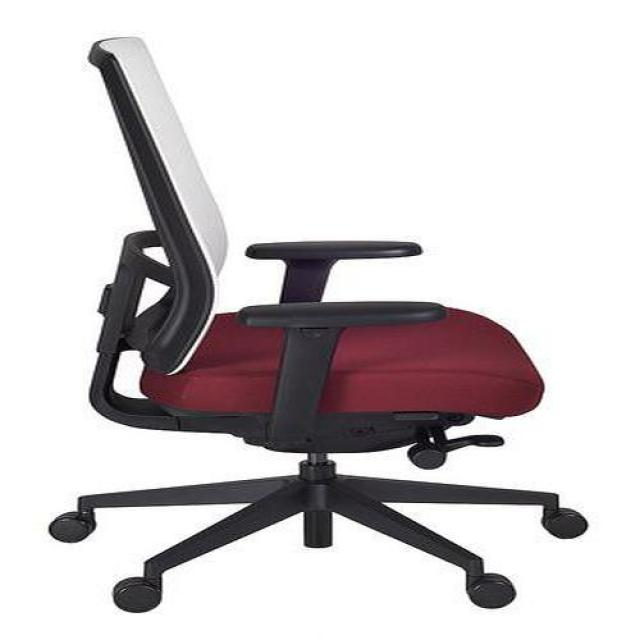swivelchair: (51, 36, 591, 616)
